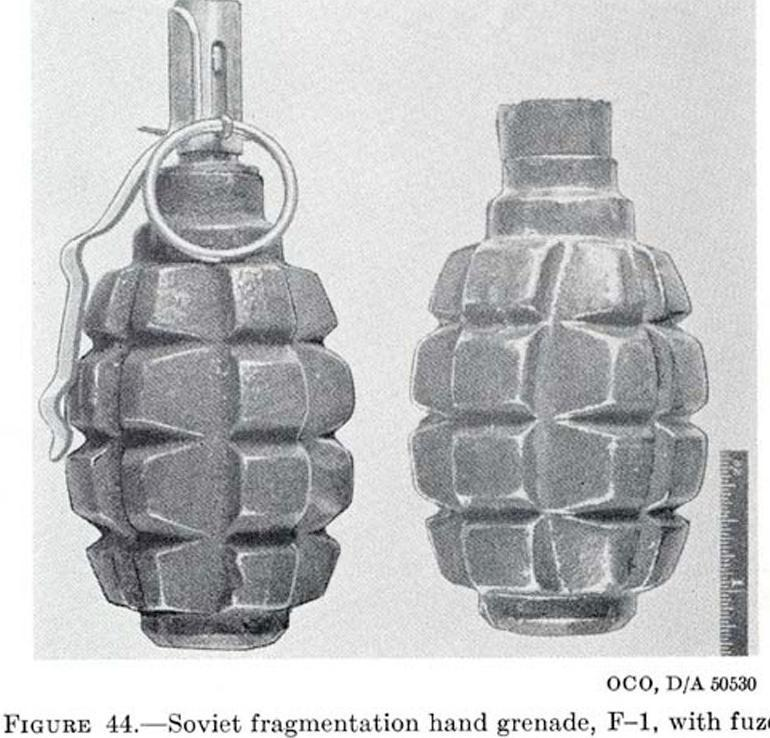Grenade: (37, 0, 356, 651), (406, 98, 711, 637)
